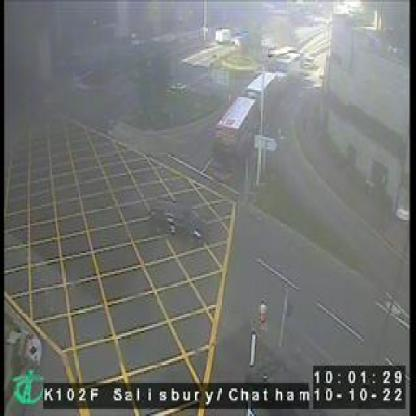Bus: (210, 96, 256, 184), (245, 70, 278, 128)
Car: (146, 196, 208, 246)
